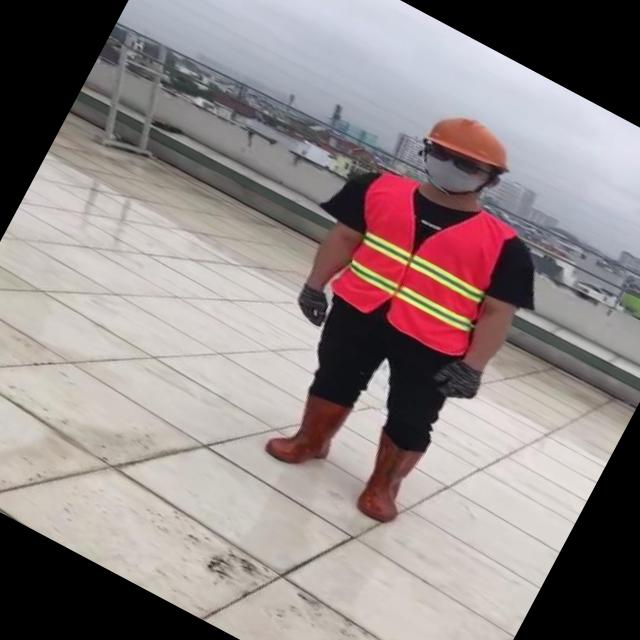hard_hat: (422, 102, 522, 183)
safety_vest: (314, 157, 527, 363)
vehicle: (206, 75, 606, 550)
work_boots: (256, 384, 350, 482), (342, 430, 432, 531)
